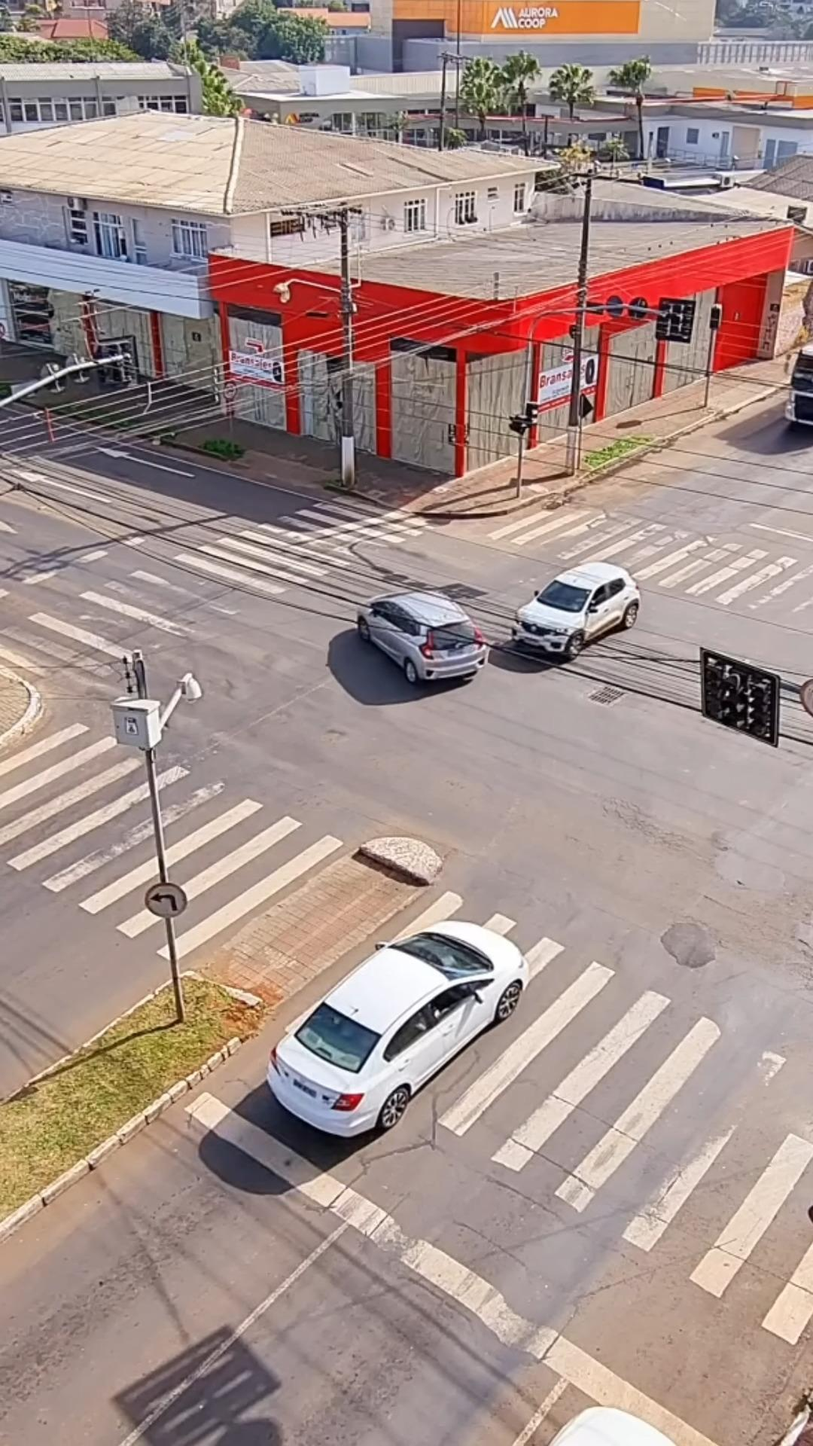vehicle: (267, 921, 533, 1147), (513, 566, 643, 665), (357, 587, 485, 686)
